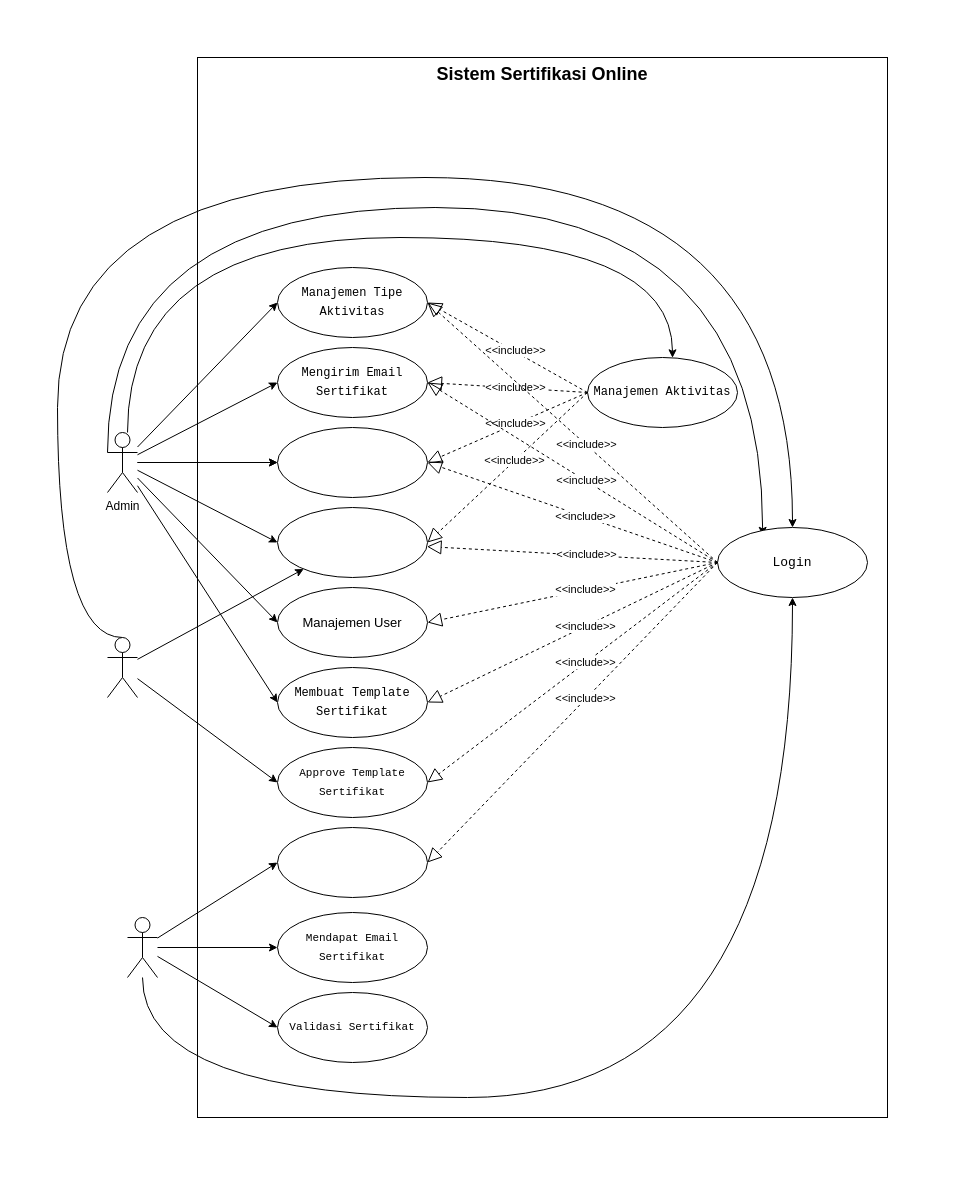
This 954x1194 diagram has some shape labels left out. The shapes that lost their labels are listed below. From the top down, each one's box as (x1, y1, x2, y2) in pixels, then its label:
(276, 426, 428, 498): Generate Nomor Sertifikat
(276, 506, 428, 578): Melihat Data Aktivitas
(106, 636, 138, 698): Instruktur
(276, 826, 428, 898): Melihat Kepemilikan Sertifiket
(126, 916, 158, 978): Peserta
